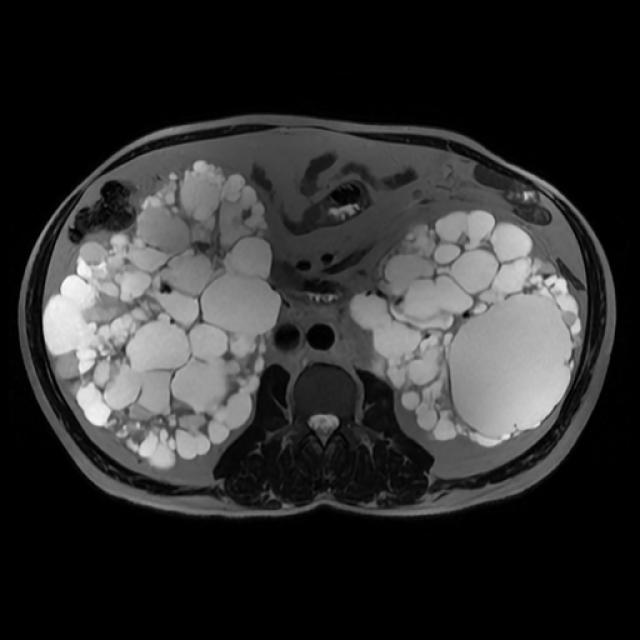sag: (48, 163, 279, 471)
sol: (352, 211, 584, 444)
